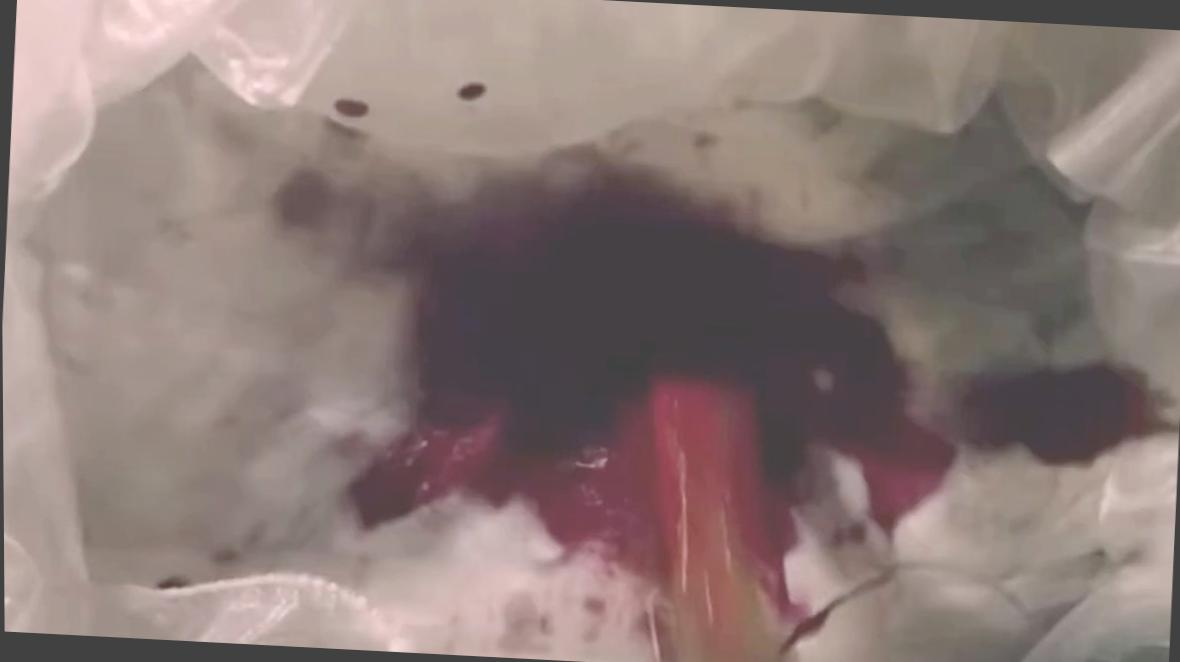Fire: (242, 0, 1178, 662)
